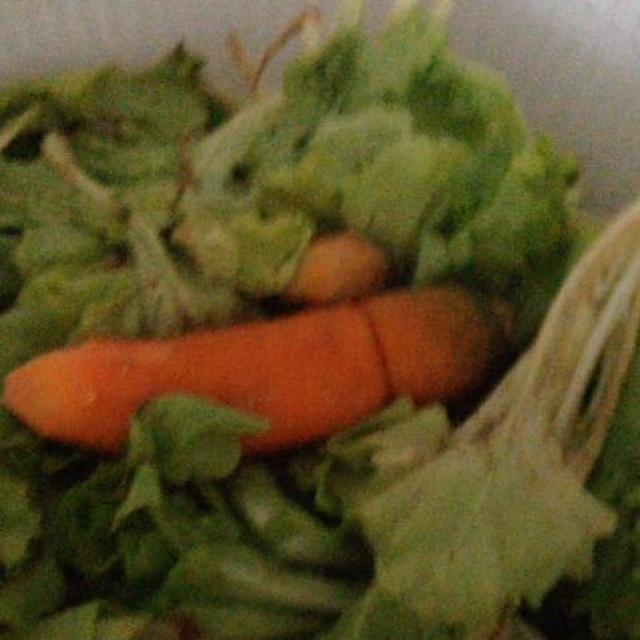carrot: (4, 224, 511, 452)
salad: (7, 11, 630, 627)
